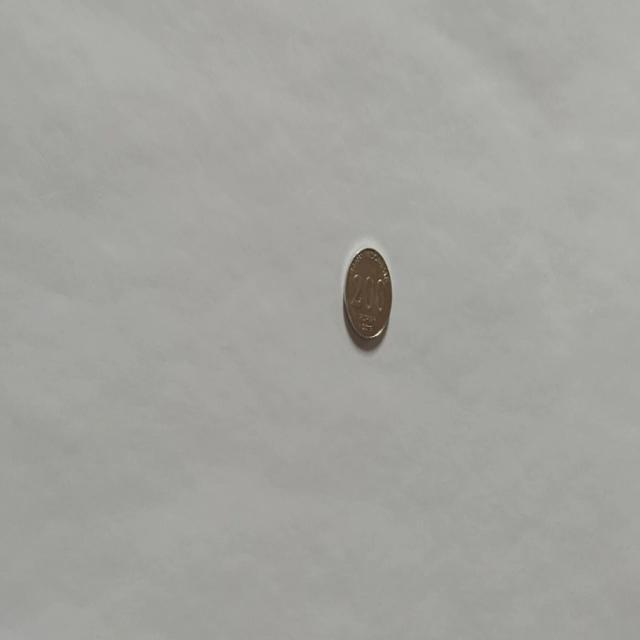dua ratus rupiah: (342, 244, 392, 342)
